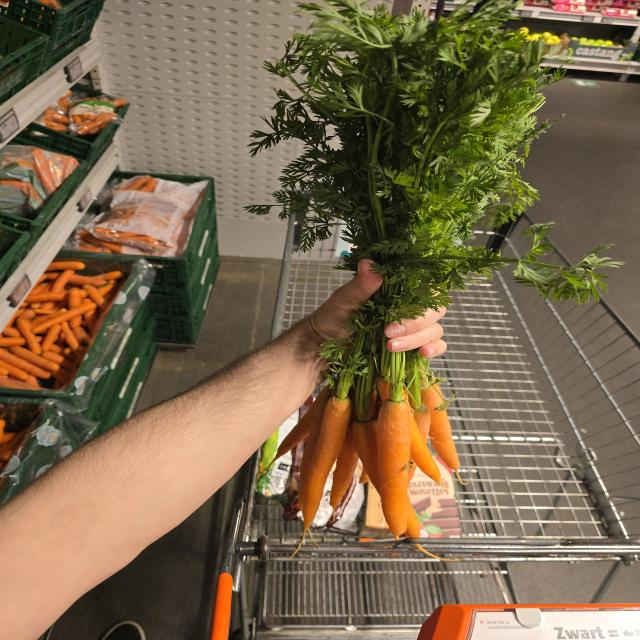Carrot: (302, 397, 351, 530), (376, 400, 413, 539), (421, 383, 460, 473), (330, 413, 359, 513), (352, 420, 377, 490)
